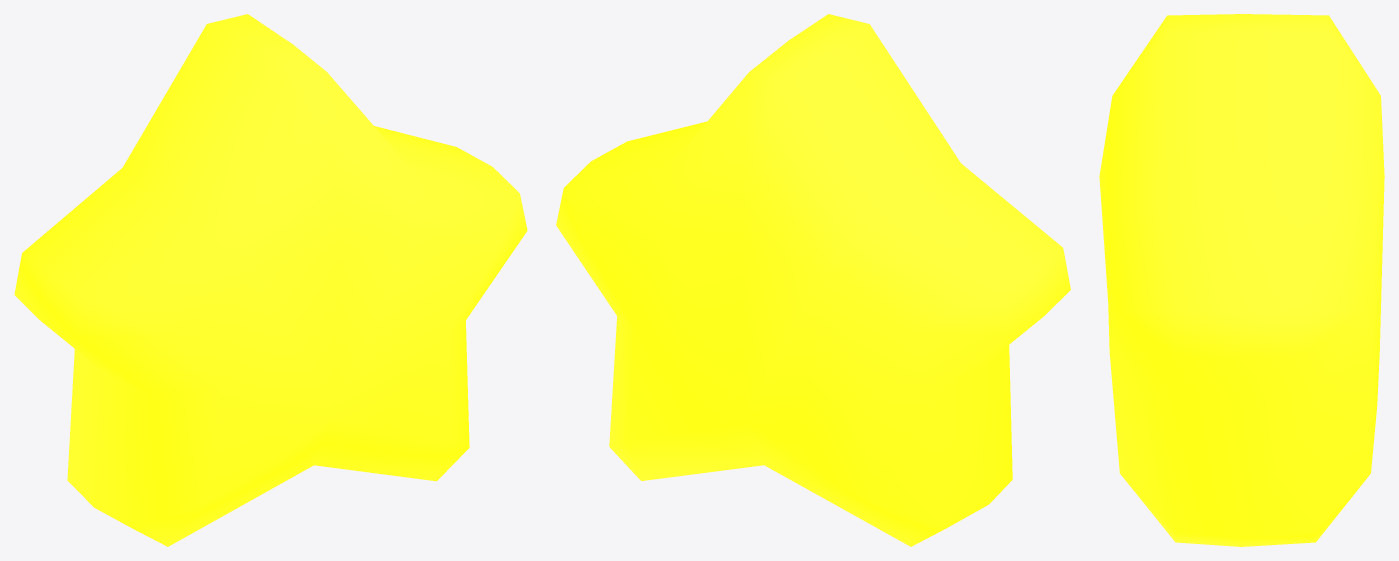
File: Star_2.fbx
3 renders of one model, left to right at view 1: azimuth 30°, elevation 25°; view 2: azimuth 150°, elevation 25°; view 3: azimuth 270°, elevation 25°, orthographic. The views are drawn at different scales.
Parts seen in each view (by area): view 1: Star; view 2: Star; view 3: Star.
Boxes of the visible parts, x1,y1,x2,y2 form: Star: (14, 14, 527, 546); Star: (556, 14, 1070, 546); Star: (1099, 14, 1384, 546).
Bounding box in the file's own units: 116 × 107 × 60.88.
